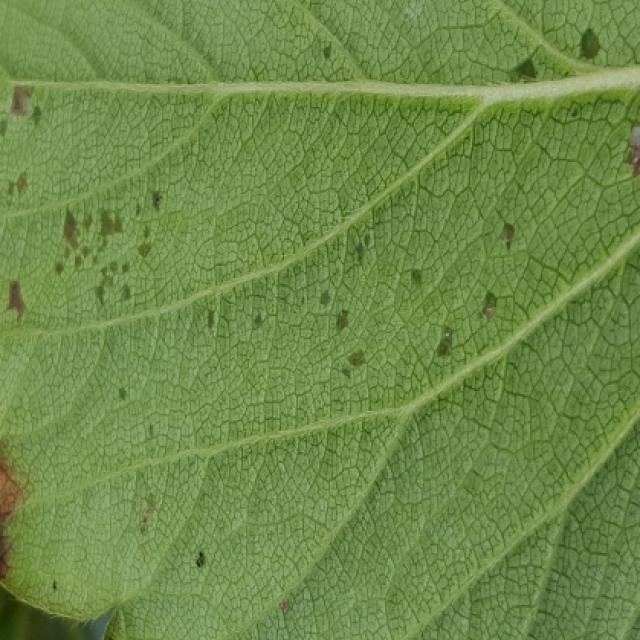Angular Leafspot: (0, 7, 638, 604)
